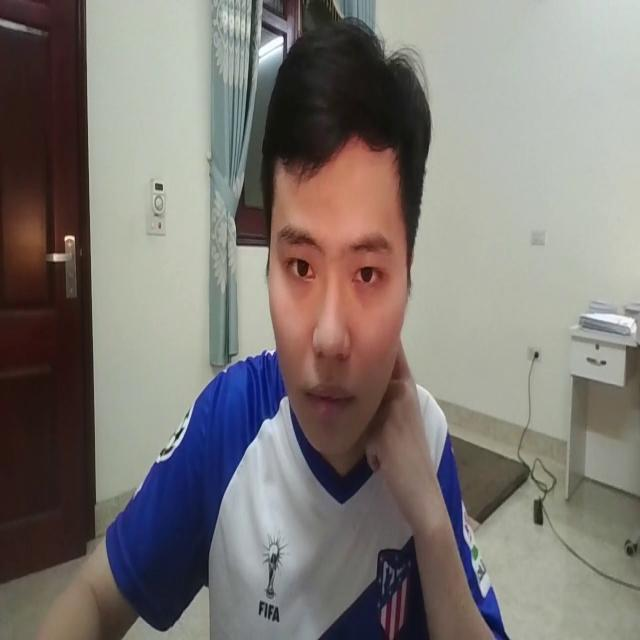student: (90, 10, 523, 640)
